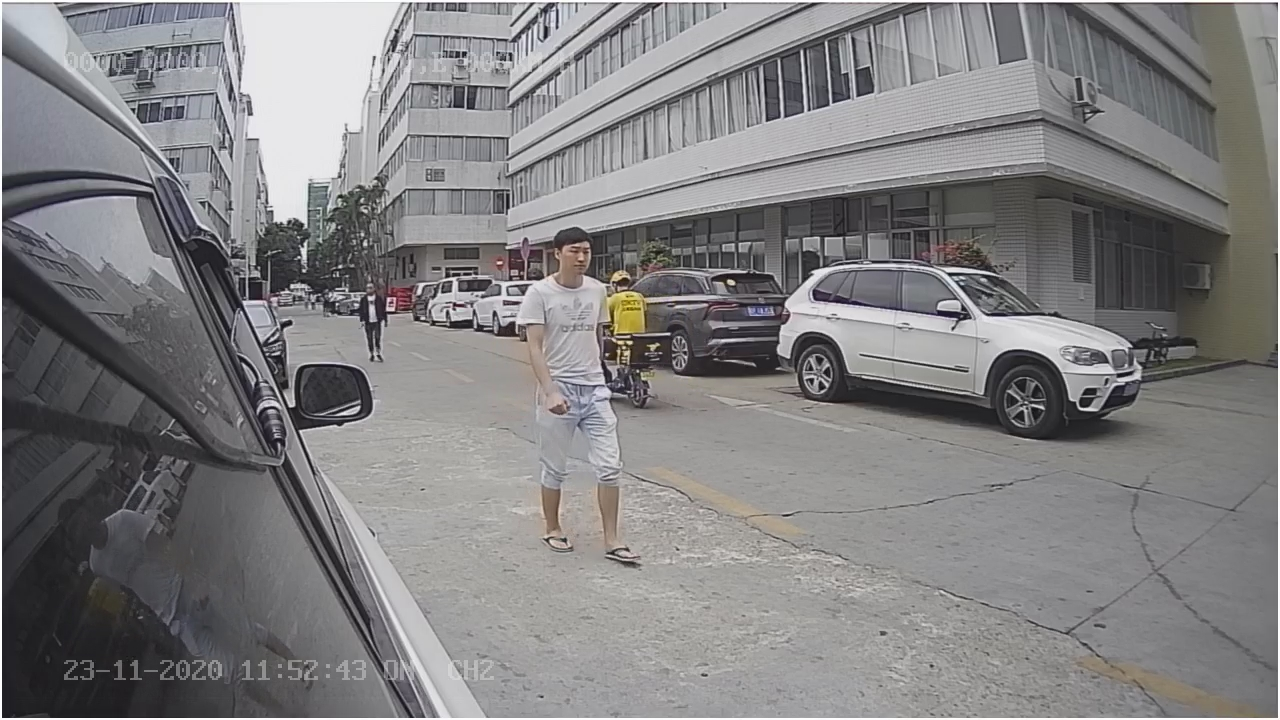person: (519, 220, 624, 560)
